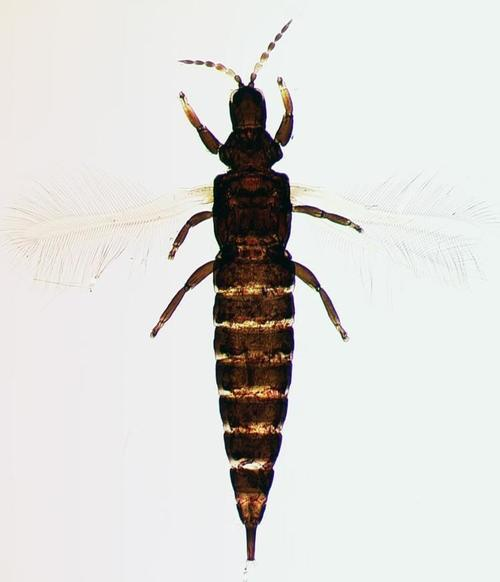Phlaeothripidae: (2, 19, 489, 567)
